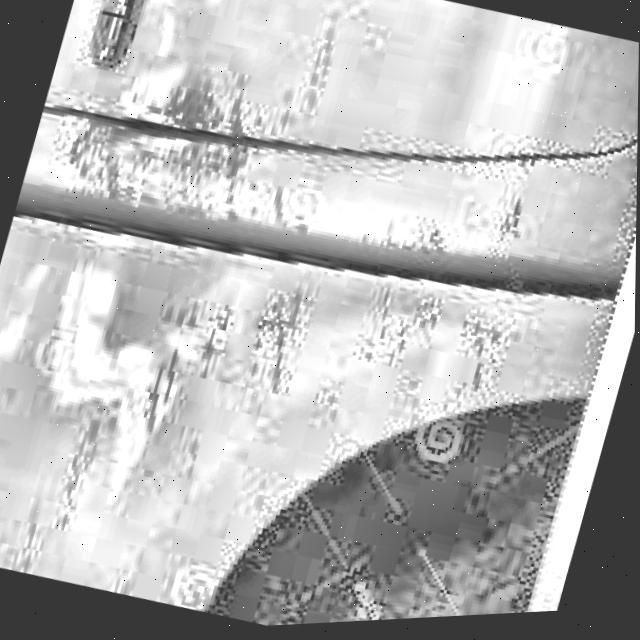door_scratch: (14, 32, 556, 489)
